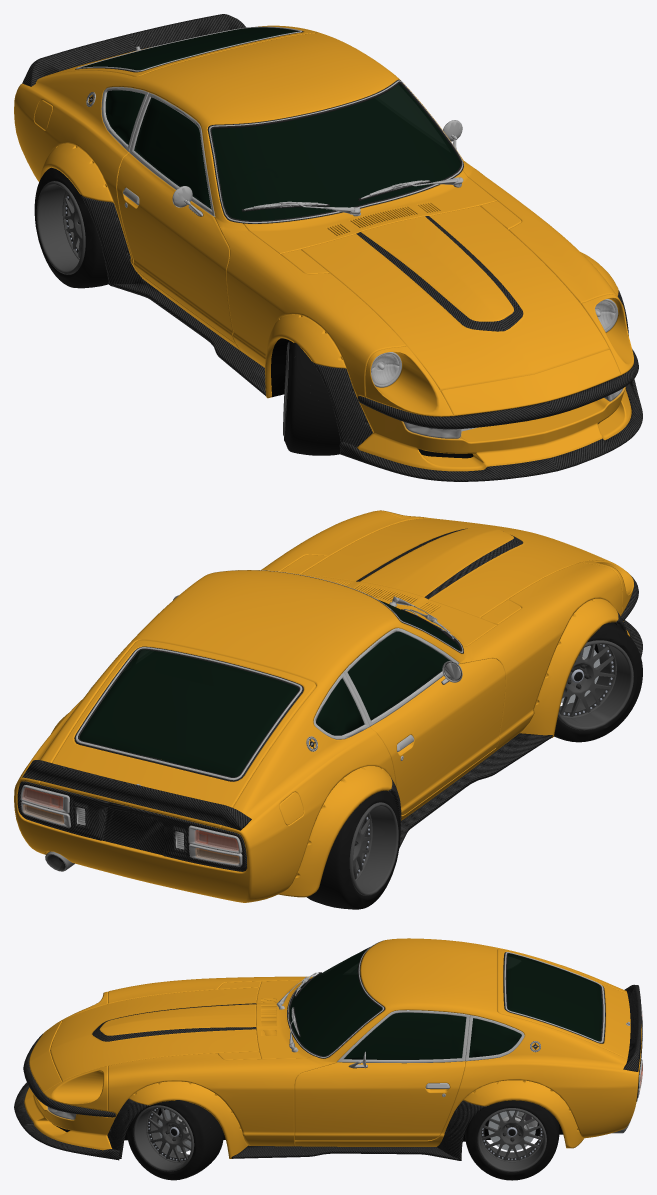
The picture shows the model from 3 angles, top to bottom: view 1: azimuth 30°, elevation 25°; view 2: azimuth 150°, elevation 25°; view 3: azimuth 270°, elevation 25°; orthographic projection. The views are drawn at different scales.
Visible parts, largest first — view 1: Object_3, Object_6, Object_5, Wheel_RR, Object_9, Wheel_FR, Object_7, Object_18, Object_8, Object_10, Object_12; view 2: Object_3, Object_6, Object_5, Wheel_RR, Object_9, Wheel_FR, Object_7, Object_8, Object_15, Object_18, Object_2, Object_11; view 3: Object_3, Object_6, Object_5, Wheel_RL, Wheel_FL, Object_9, Object_18, Object_7, Object_14.
Part boxes in pixels (x1,y1,x2,y2): Object_3: (14,25,633,471); Object_6: (80,27,460,220); Object_5: (22,14,642,481); Wheel_RR: (34,167,109,288); Object_9: (76,26,463,223); Wheel_FR: (283,340,345,455); Object_7: (75,27,463,223); Object_18: (284,353,319,453); Object_8: (371,301,624,439); Object_10: (371,299,618,387); Object_12: (271,211,599,458); Object_3: (14,510,633,902); Object_6: (79,600,460,777); Object_5: (17,528,642,871); Wheel_RR: (306,781,401,909); Object_9: (20,570,463,866); Wheel_FR: (554,611,627,742); Object_7: (74,570,463,781); Object_8: (22,788,239,863); Object_15: (563,642,633,726); Object_18: (606,627,642,732); Object_2: (24,787,238,850); Object_11: (24,804,239,863); Object_3: (24,938,641,1158); Object_6: (290,948,602,1059); Object_5: (14,984,642,1160); Wheel_RL: (459,1100,559,1180); Wheel_FL: (122,1100,223,1180); Object_9: (276,940,642,1097); Object_18: (170,1105,216,1179); Object_7: (287,942,605,1068); Object_14: (136,1109,194,1171).
Size of the model in its own units: 1.94 by 1.17 by 4.11.
15 materials, 5 textured.
